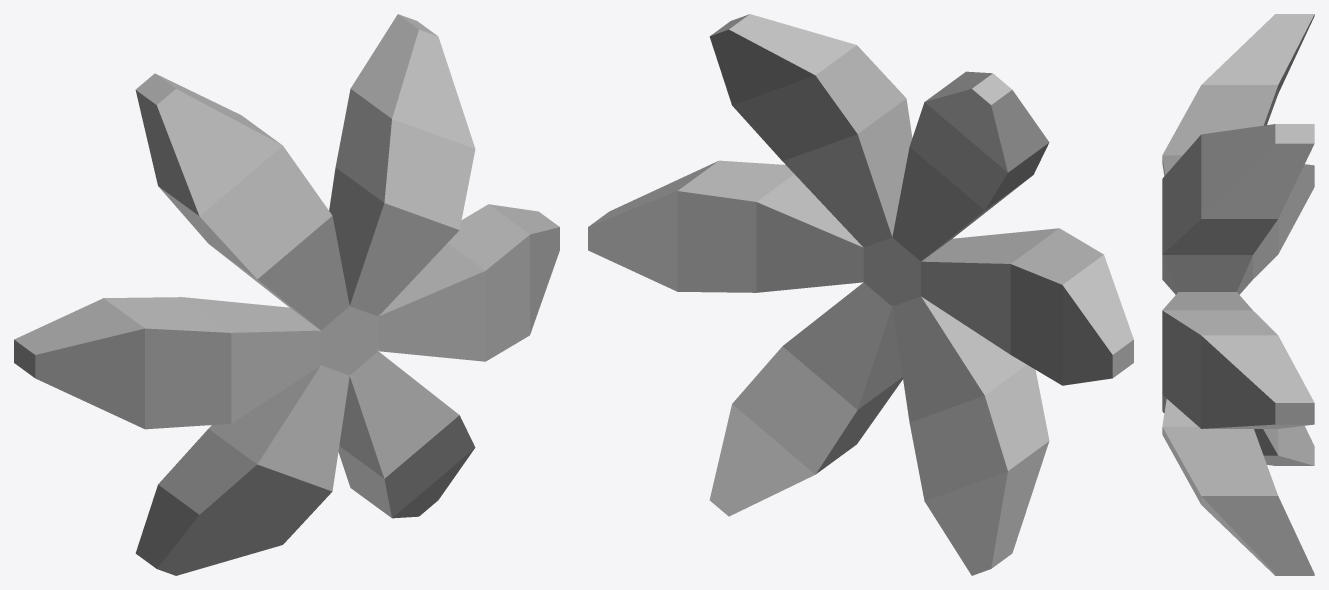
The model's file is Barca_helice.obj.
The picture shows the model from 3 angles, left to right: view 1: azimuth 30°, elevation 25°; view 2: azimuth 150°, elevation 25°; view 3: azimuth 270°, elevation 25°; orthographic projection. The views are drawn at different scales.
Parts seen in each view (by area): view 1: Helice; view 2: Helice; view 3: Helice.
Boxes of the visible parts, box(x1,y1,x2,y2) form: Helice: box(14, 14, 559, 575); Helice: box(588, 14, 1133, 575); Helice: box(1162, 14, 1314, 575).
Size of the model in its own units: 4.23 by 3.75 by 1.15.
Materials: 1 (1 with a texture image).
